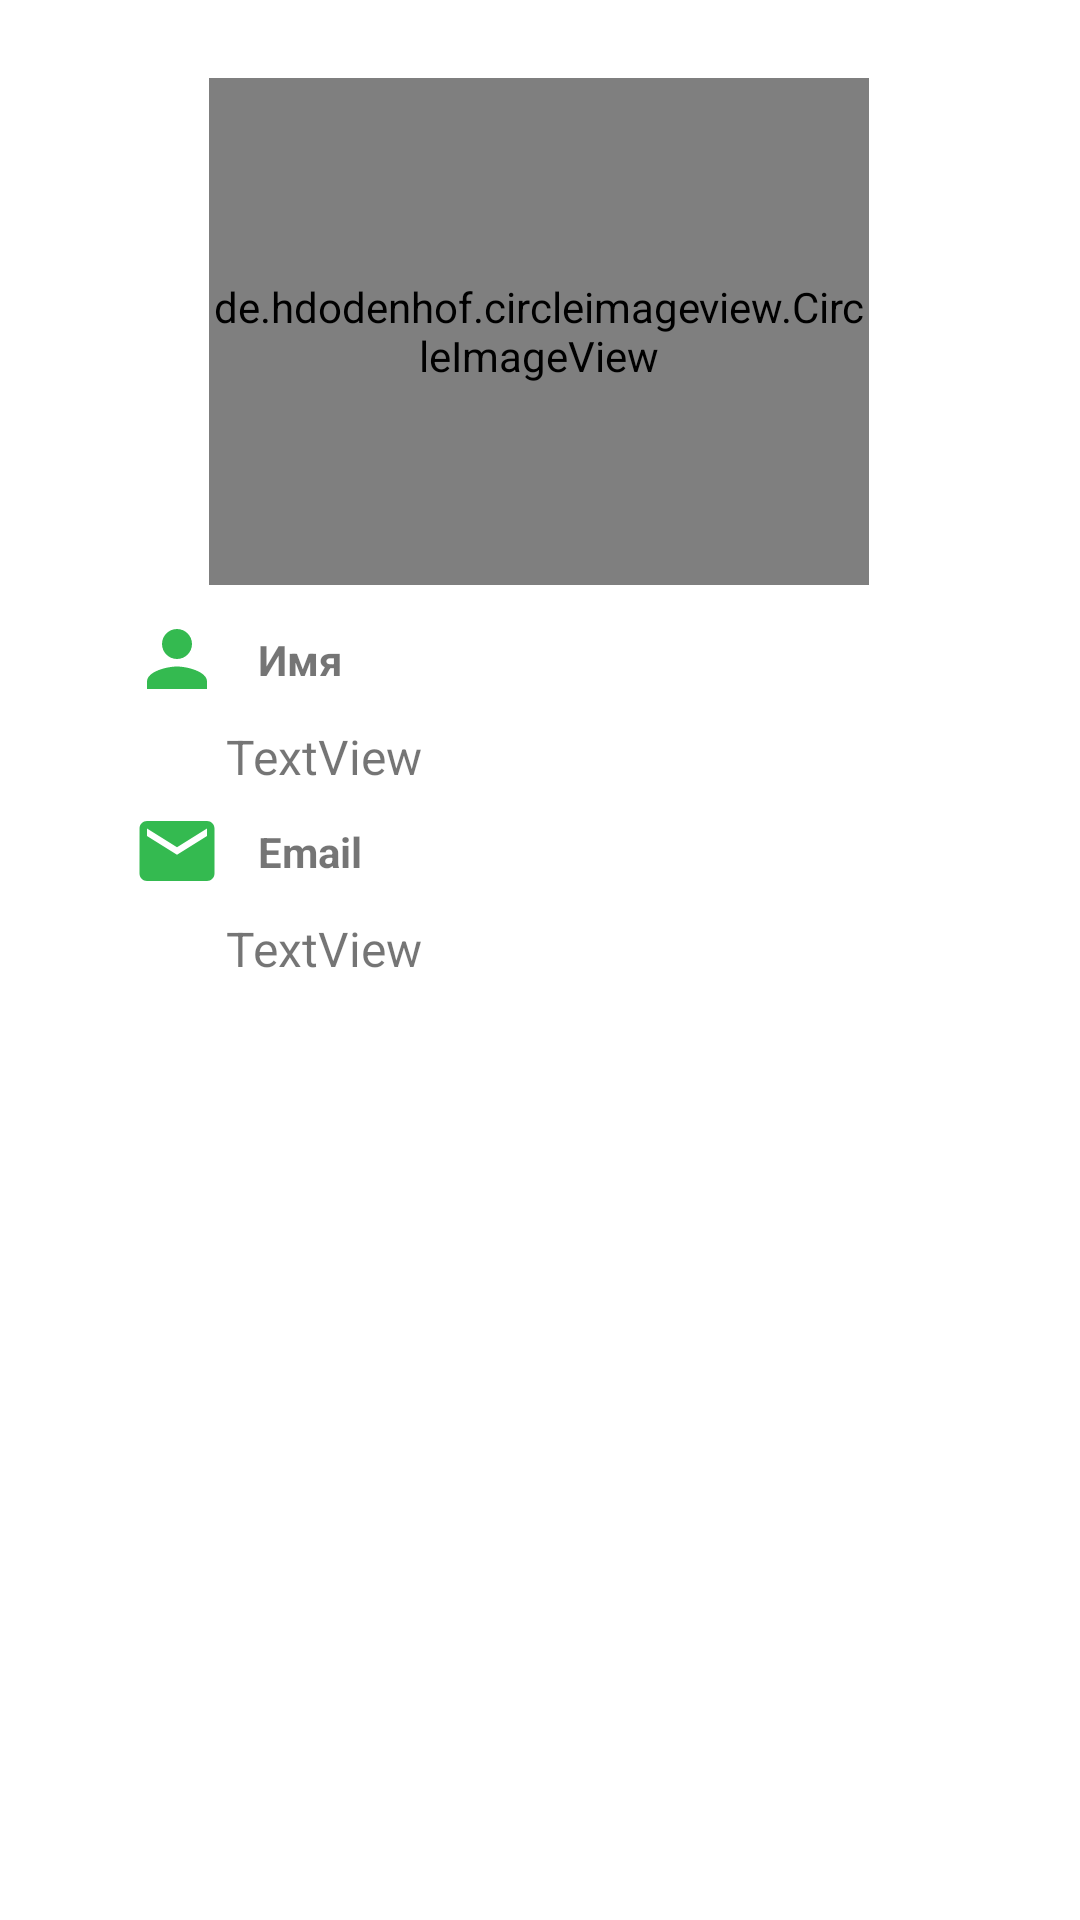

Icons on this 1080x1920 Android screen, each with its box as (left=x1, top=y1, right=x2, bottom=y2):
person: (left=147, top=629, right=207, bottom=689)
